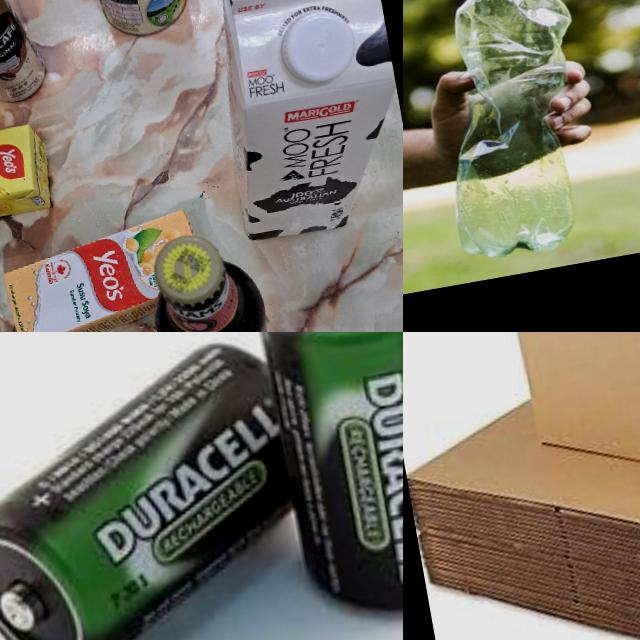bateria: (0, 332, 325, 640), (243, 332, 403, 628)
caixinha: (199, 0, 403, 243), (0, 206, 210, 332), (0, 121, 60, 231)
garrafa de vidro: (139, 223, 278, 332)
garrafa plástica: (411, 0, 612, 265)
lata: (0, 0, 50, 117), (65, 0, 192, 45)
papelão: (403, 332, 640, 640), (491, 332, 640, 534)
tampa plástica: (277, 6, 361, 90)
